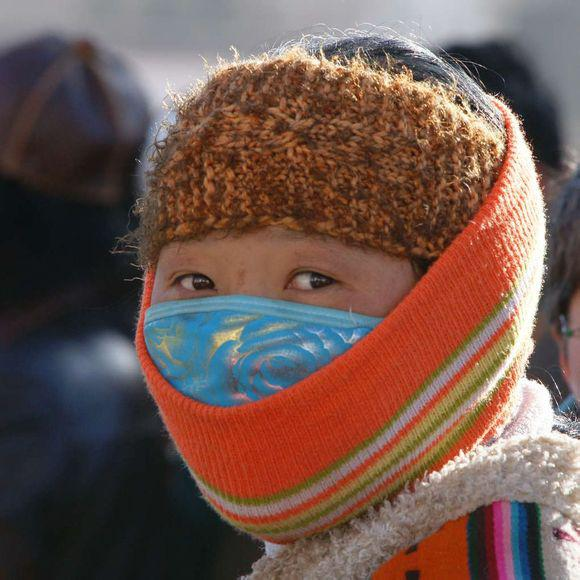OK: (141, 199, 424, 482)
